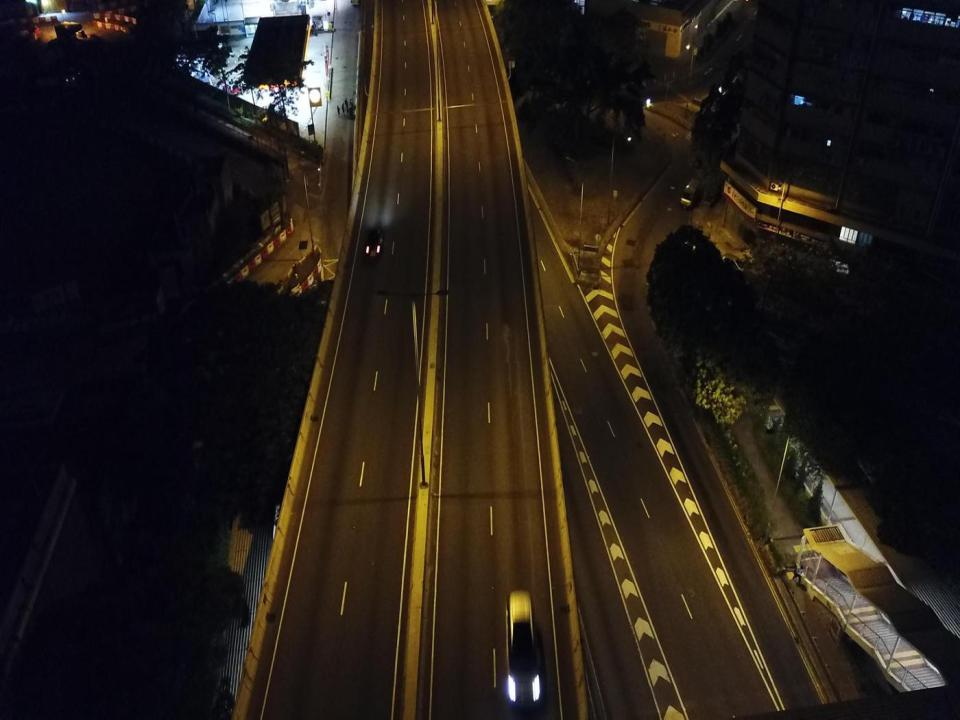bus: (681, 177, 701, 209)
car: (364, 228, 382, 266), (222, 82, 240, 96)
van: (502, 590, 544, 708)
